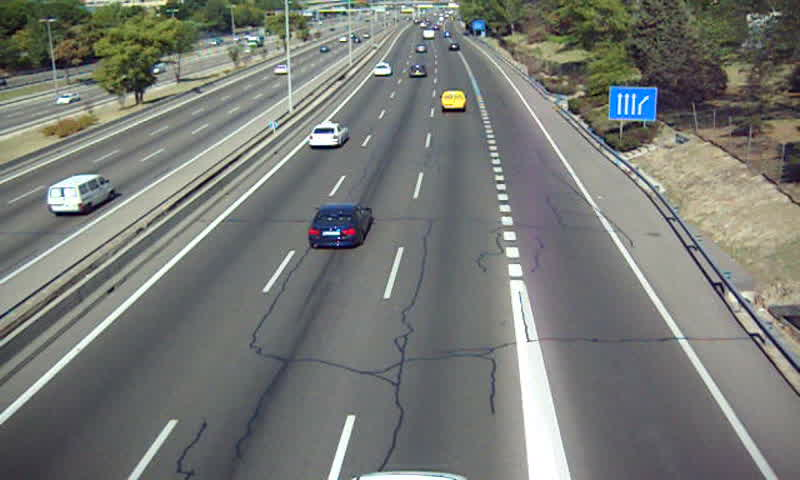car: (309, 203, 369, 248), (307, 124, 349, 148), (407, 63, 428, 79), (372, 63, 392, 78)
van: (441, 90, 467, 110)
